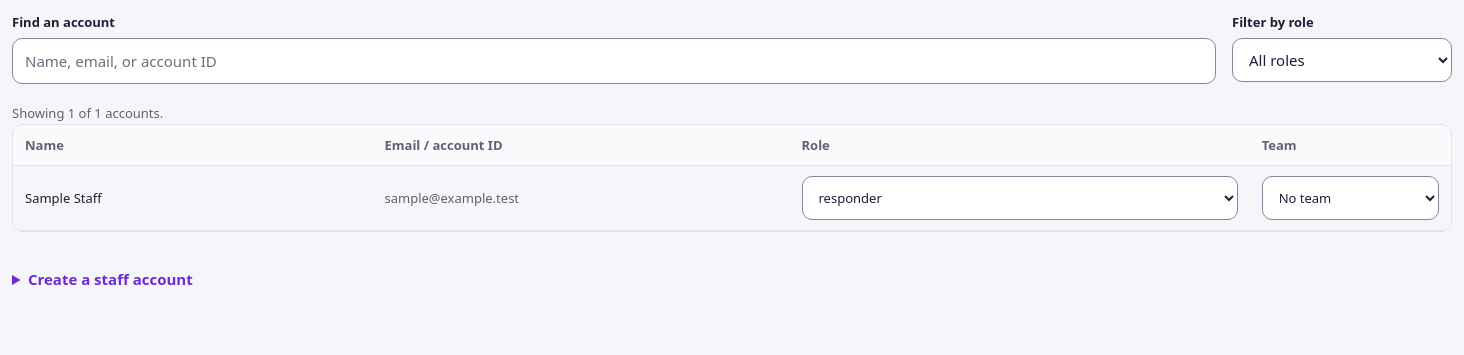
Test: returns focus to the role selector when the saved action disappears
The width and height of the screenshot is (1464, 355).
Select "admin" in the dropdown named "Role for Sample Staff". click: (1020, 198)
box: [802,176,1238,220]
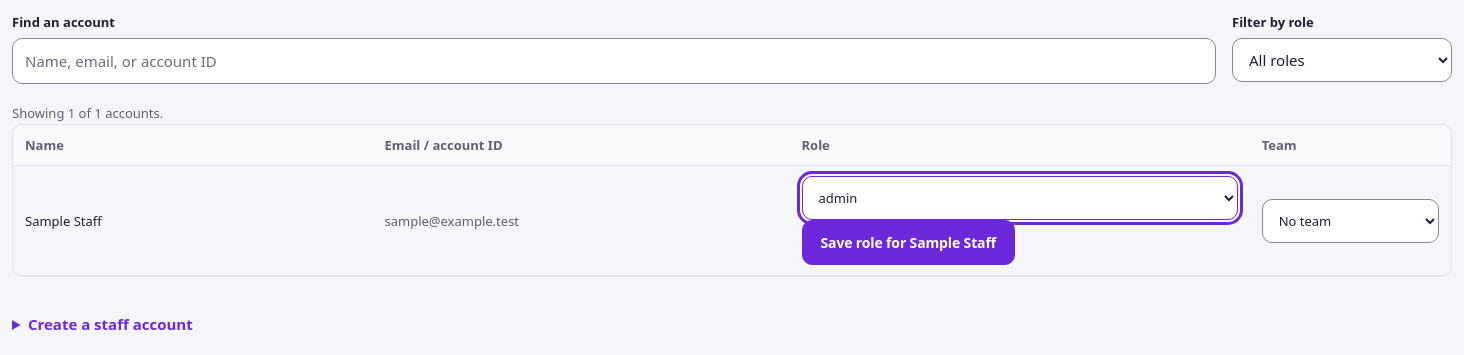
Click the button "Save role for Sample Staff". click: (908, 243)
box: [802,220,1015,266]
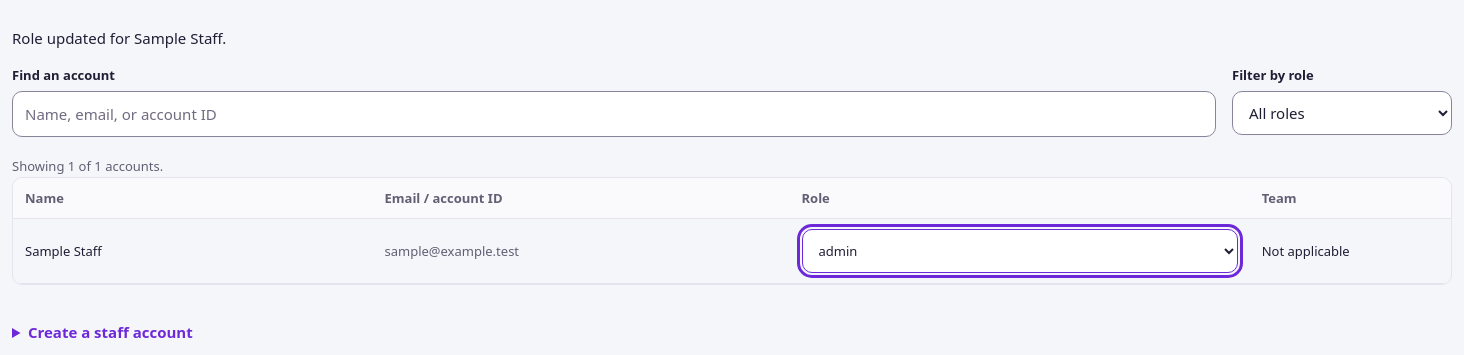
Expected: the button "Save role for Sample Staff" is gone
